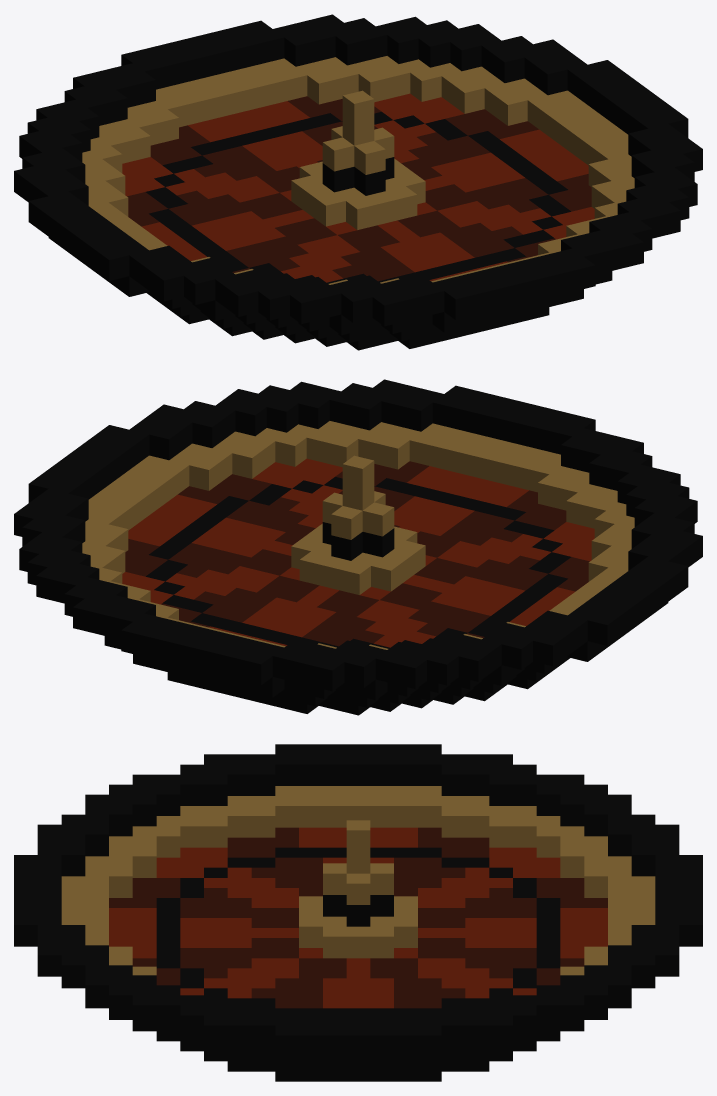
Rendered from casino drum.fbx.
3 views of the same model, one above another, from view 1: azimuth 30°, elevation 25°; view 2: azimuth 150°, elevation 25°; view 3: azimuth 270°, elevation 25° (orthographic). The views are drawn at different scales.
Visible parts, largest first — view 1: Cylinder; view 2: Cylinder; view 3: Cylinder.
Part boxes in pixels (x1=…): Cylinder: x1=14, y1=14, x2=702, y2=350; Cylinder: x1=14, y1=379, x2=702, y2=715; Cylinder: x1=14, y1=744, x2=702, y2=1081.
Size of the model in its own units: 1.18 by 0.2854 by 1.18.
